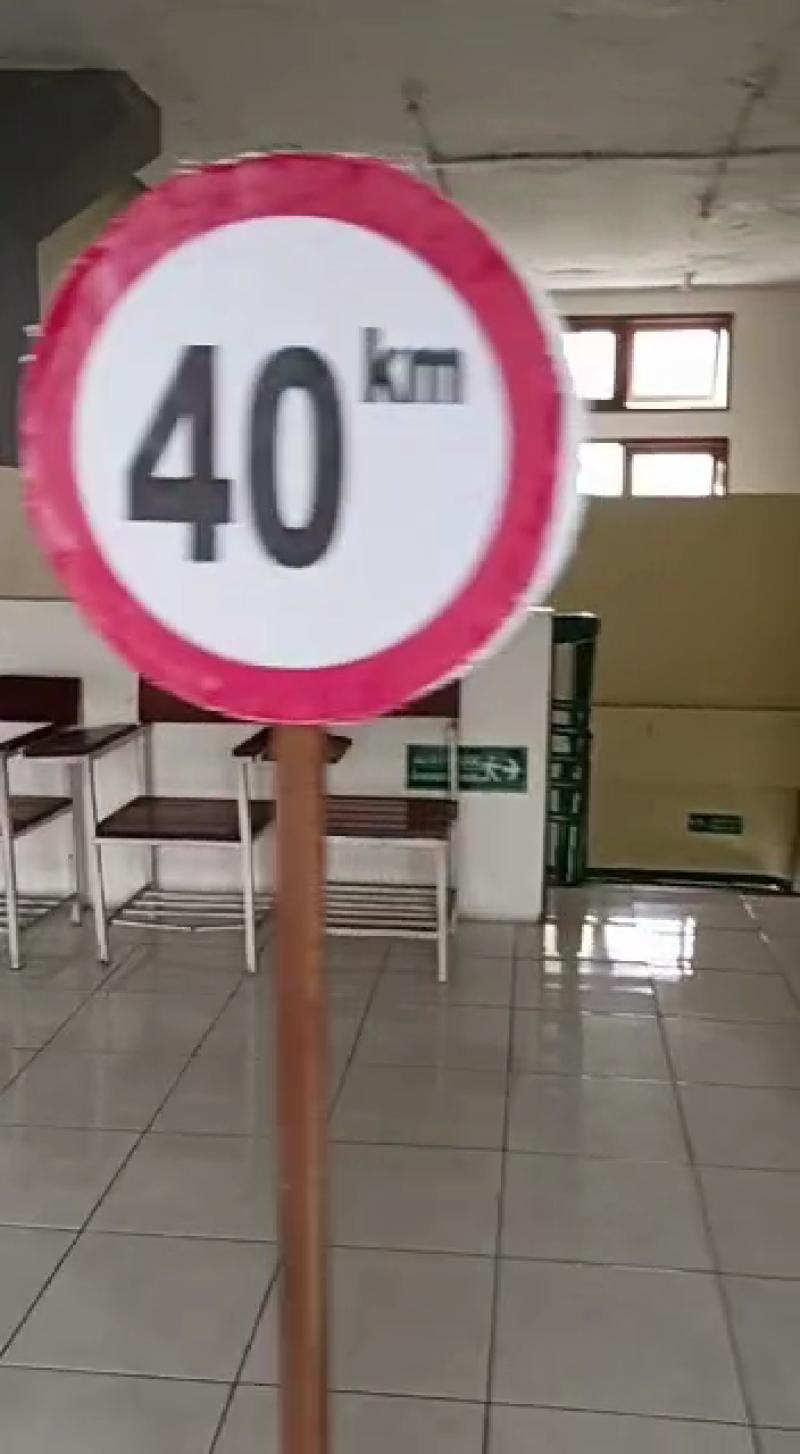batas maksimal 40kmperjam: (1, 147, 595, 728)
